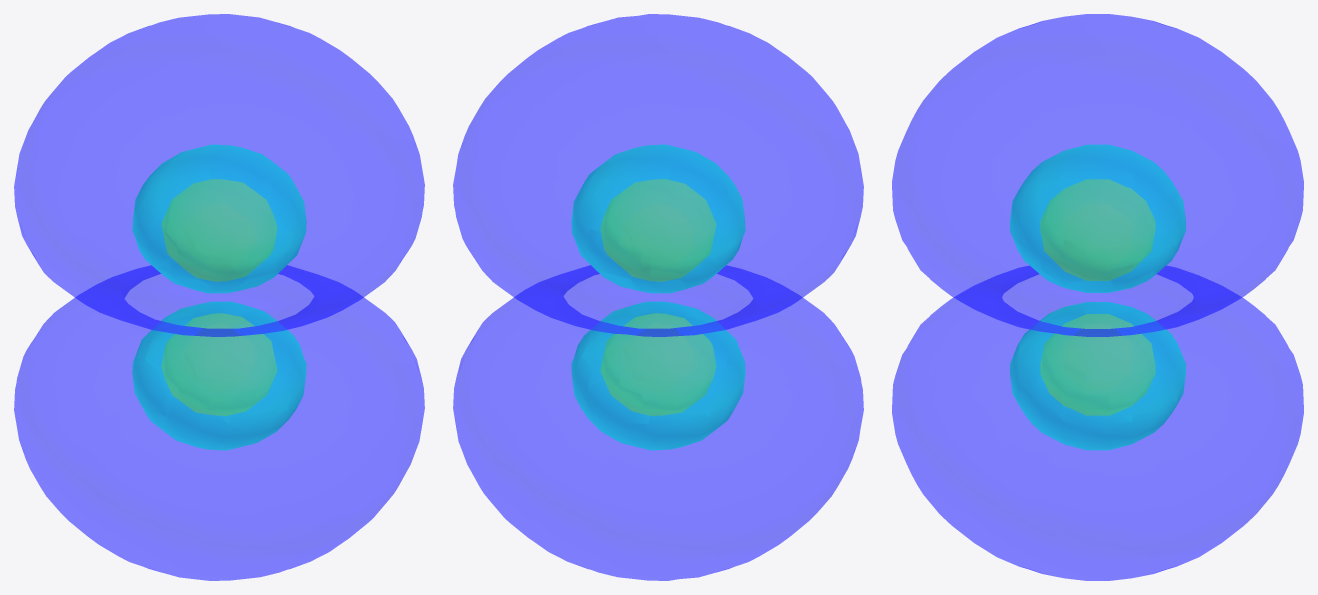
The model's file is orbital_n2_l1_m0_real_multilayer.fbx.
3 views of the same model, side by side, from view 1: azimuth 30°, elevation 25°; view 2: azimuth 150°, elevation 25°; view 3: azimuth 270°, elevation 25° (orthographic).
Visible parts, largest first — view 1: orbital_n2_l1_m0_real_multilayer; view 2: orbital_n2_l1_m0_real_multilayer; view 3: orbital_n2_l1_m0_real_multilayer.
Part boxes in pixels (bbox=[...]): orbital_n2_l1_m0_real_multilayer: bbox=[14, 14, 424, 580]; orbital_n2_l1_m0_real_multilayer: bbox=[453, 14, 863, 580]; orbital_n2_l1_m0_real_multilayer: bbox=[892, 14, 1303, 580].
Bounding box in the file's own units: 1410 × 1982 × 1410.
